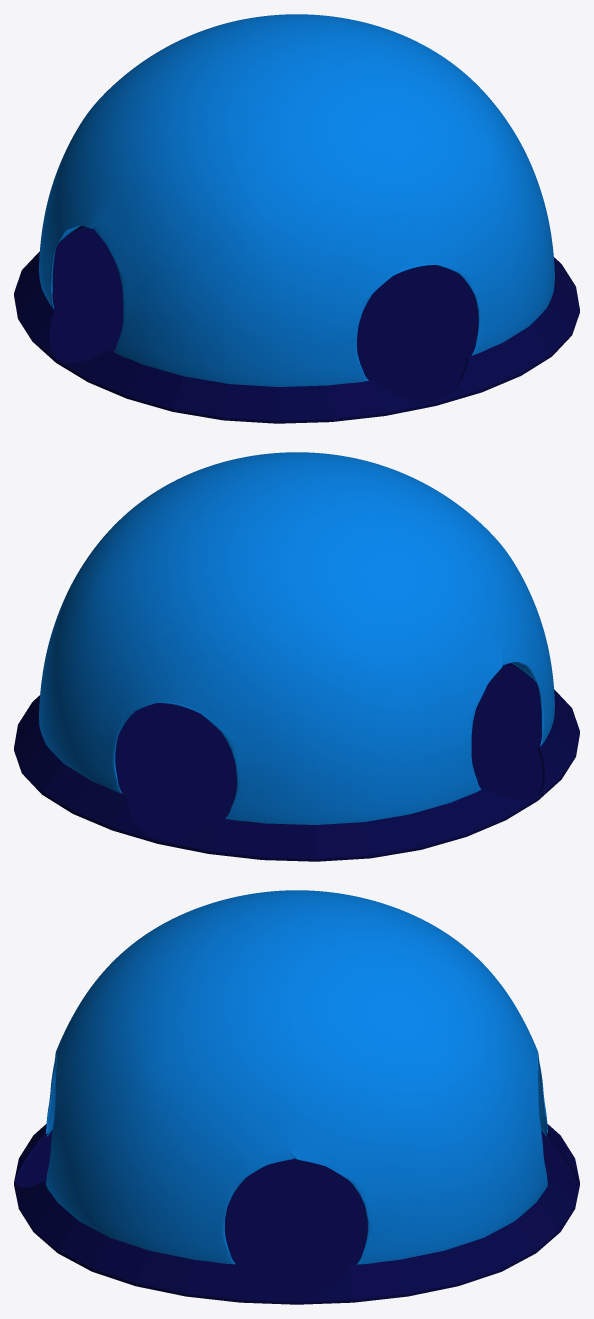
File: DOME.fbx
3 views of the same model, one above another, from view 1: azimuth 30°, elevation 25°; view 2: azimuth 150°, elevation 25°; view 3: azimuth 270°, elevation 25° (orthographic).
Visible parts, largest first — view 1: Cube.001; view 2: Cube.001; view 3: Cube.001.
Part boxes in pixels (x1,y1,x2,y2): Cube.001: [14, 14, 579, 423]; Cube.001: [14, 452, 579, 861]; Cube.001: [14, 890, 579, 1304].
Size of the model in its own units: 1409 by 733 by 1409.
